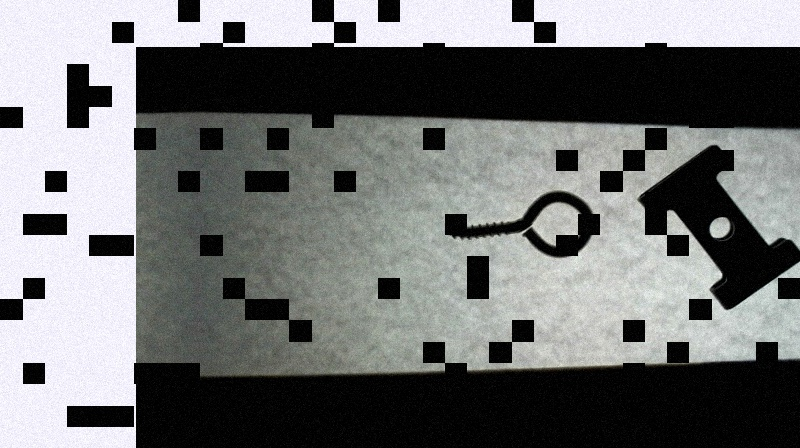O001: (440, 188, 597, 260)
O002: (633, 143, 799, 312)
